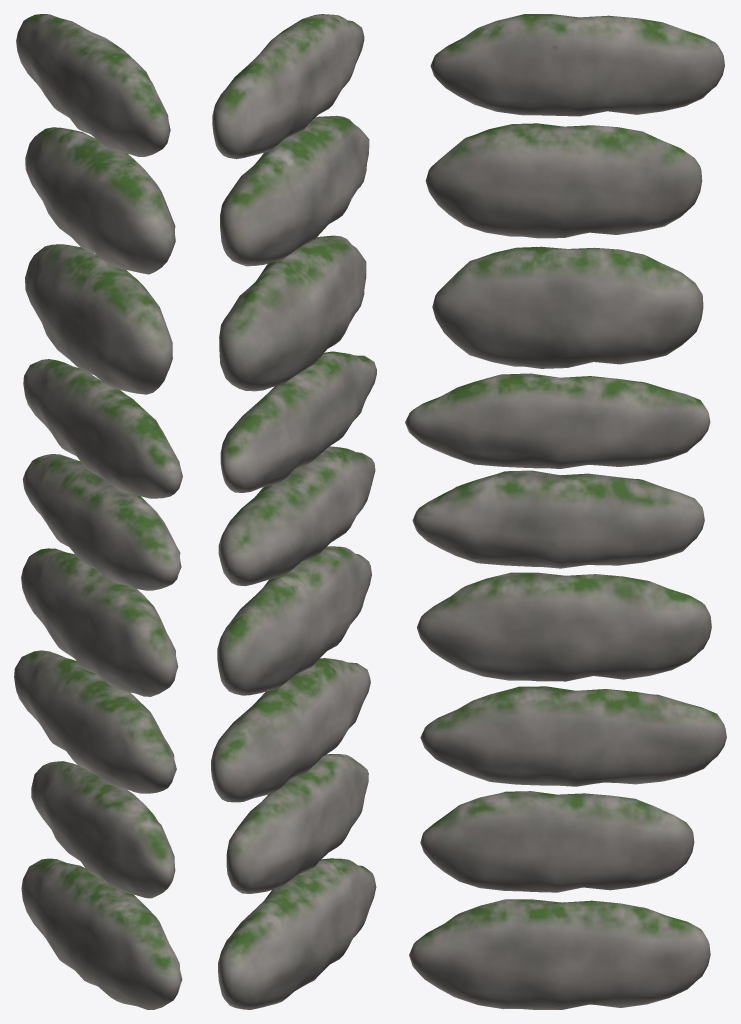
Rendered from chimney_wall.glb.
3 views of the same model, side by side, from view 1: azimuth 30°, elevation 25°; view 2: azimuth 150°, elevation 25°; view 3: azimuth 270°, elevation 25° (orthographic). The views are drawn at different scales.
Parts seen in each view (by area): view 1: ChimneyWall; view 2: ChimneyWall; view 3: ChimneyWall.
Boxes of the visible parts, bbox=[...] form: ChimneyWall: bbox=[14, 14, 182, 1009]; ChimneyWall: bbox=[211, 14, 376, 1009]; ChimneyWall: bbox=[405, 14, 726, 1009].
Size of the model in its own units: 1.18 by 16.02 by 4.72.
1 material, 1 textured.
